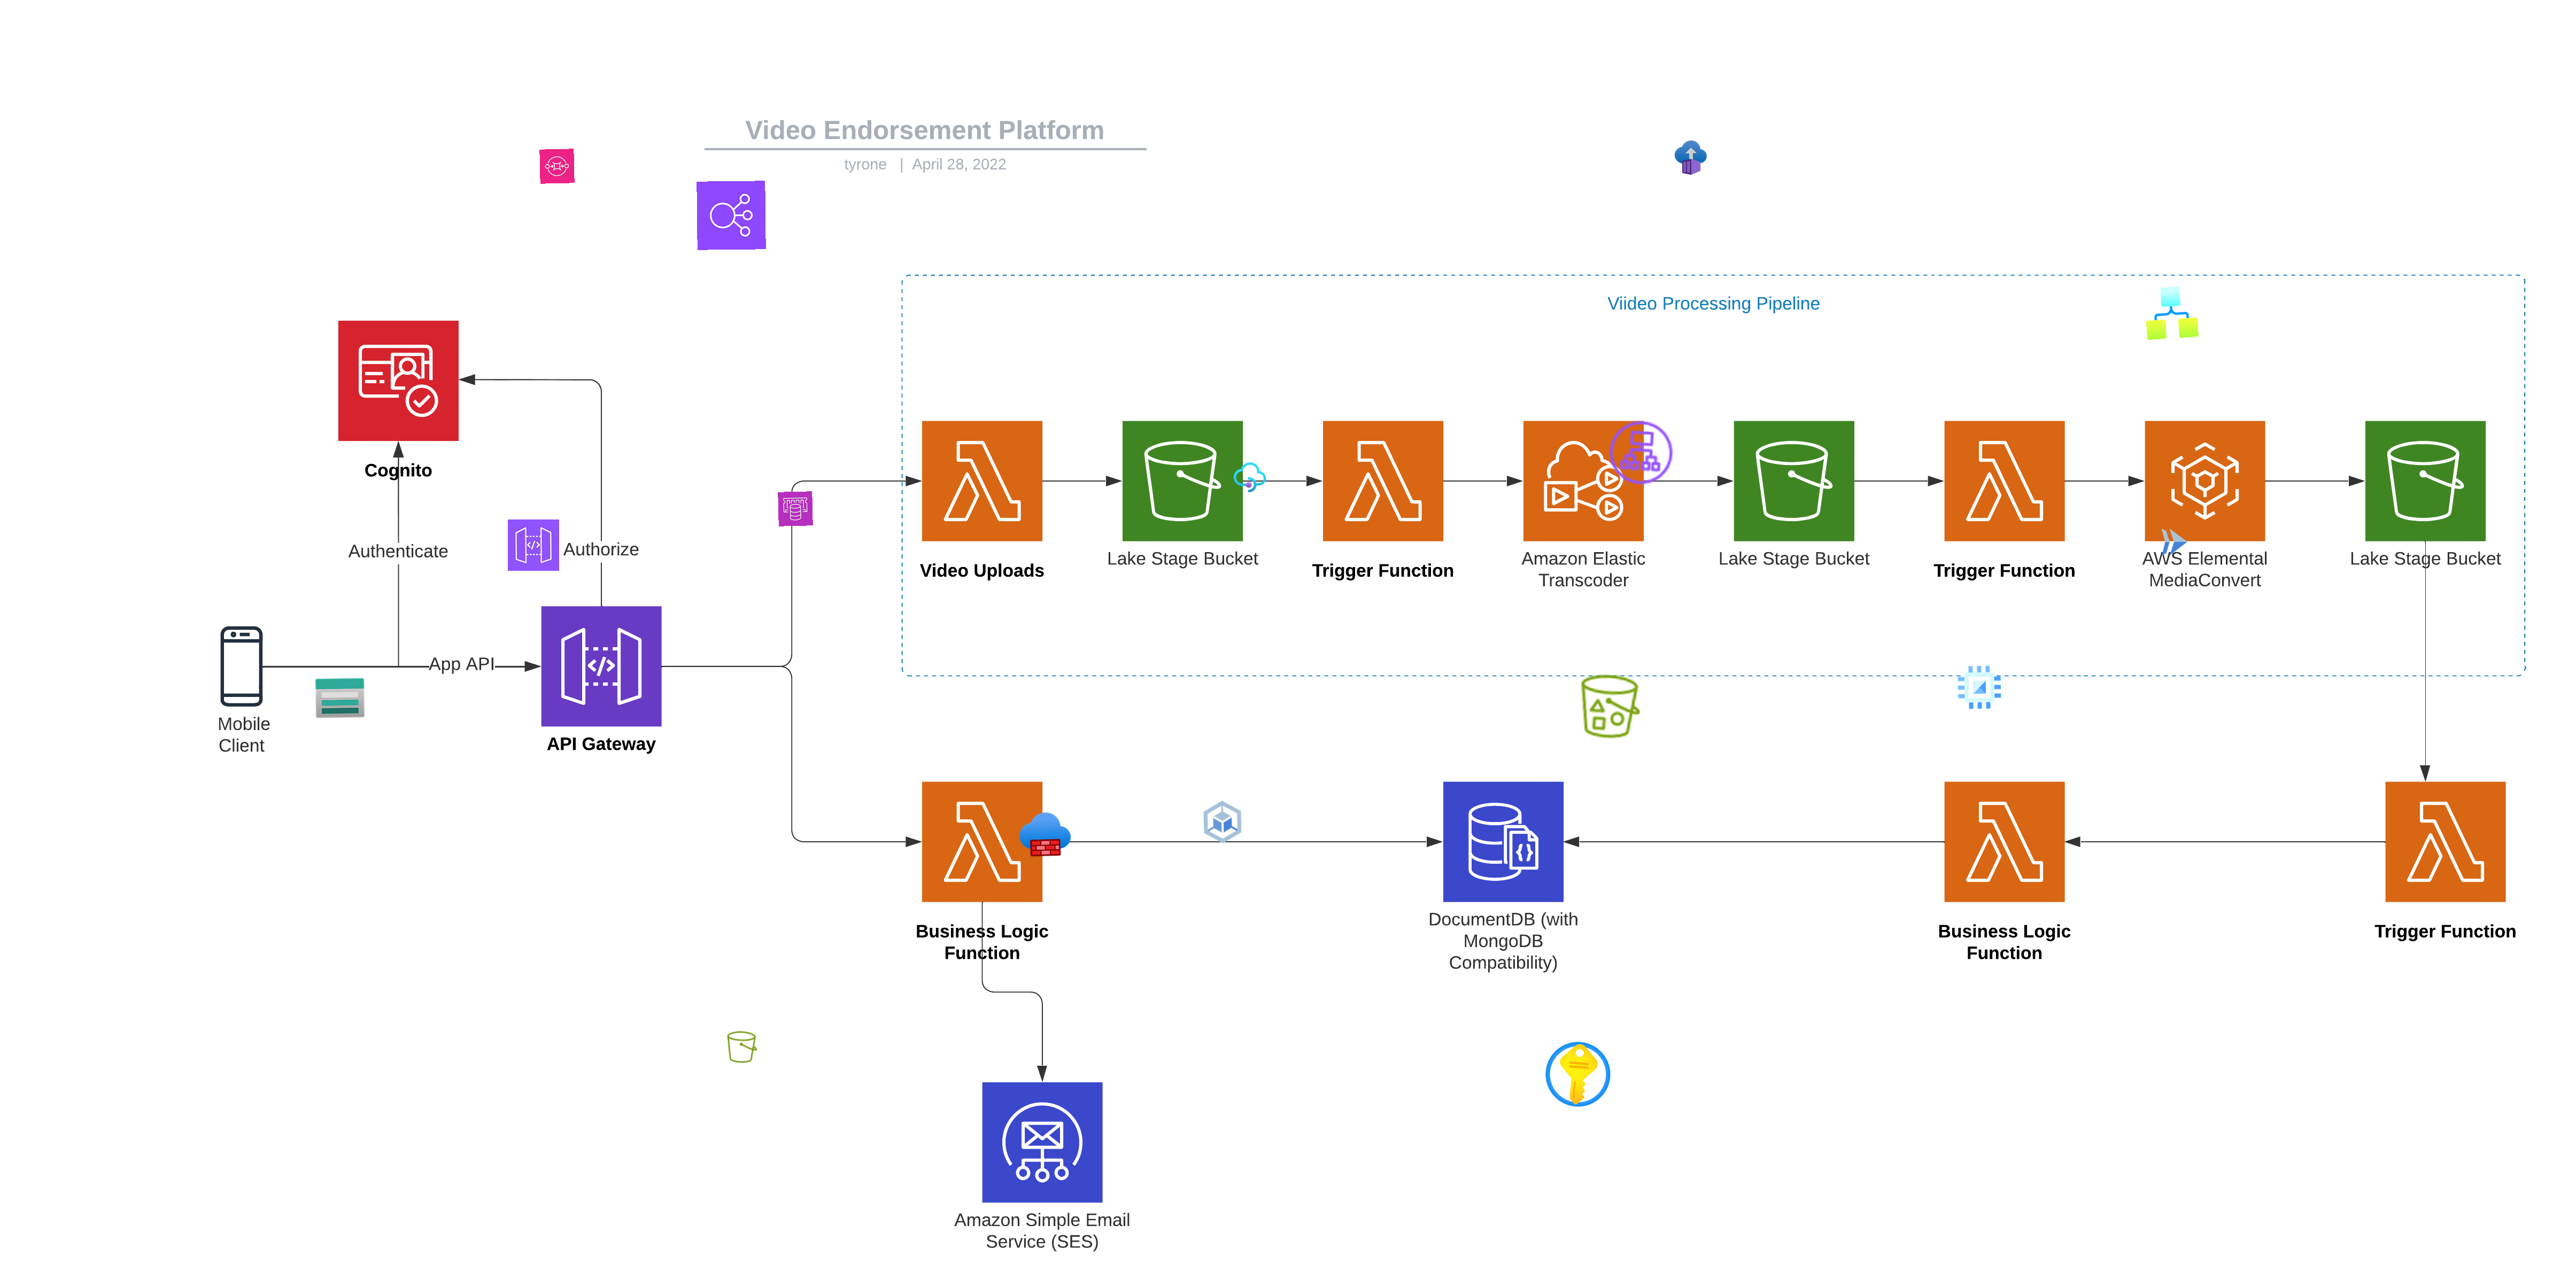aws_amazon_api_gateway: (508, 519, 560, 571)
aws_amazon_elasticache: (777, 491, 813, 527)
aws_amazon_simple_queue_service: (539, 149, 575, 184)
aws_elastic_load_balancing: (697, 181, 766, 250)
aws_elastic_load_balancing_application_load_balancer: (1605, 417, 1677, 489)
aws_simple_storage_service_bucket: (725, 1029, 761, 1065)
aws_simple_storage_service_bucket_with_objects: (1574, 670, 1646, 744)
azure_api_management_services: (1232, 460, 1267, 494)
azure_container_instances: (1672, 140, 1709, 176)
azure_firewalls: (1019, 808, 1071, 862)
azure_key_vaults: (1541, 1037, 1615, 1111)
azure_logic_apps: (2144, 286, 2200, 340)
azure_storage_accounts: (314, 671, 366, 724)
gcp_cloud_run: (2157, 524, 2192, 560)
gcp_compute_engine: (1953, 662, 2006, 714)
gcp_google_kubernetes_engine: (1196, 795, 1249, 849)
